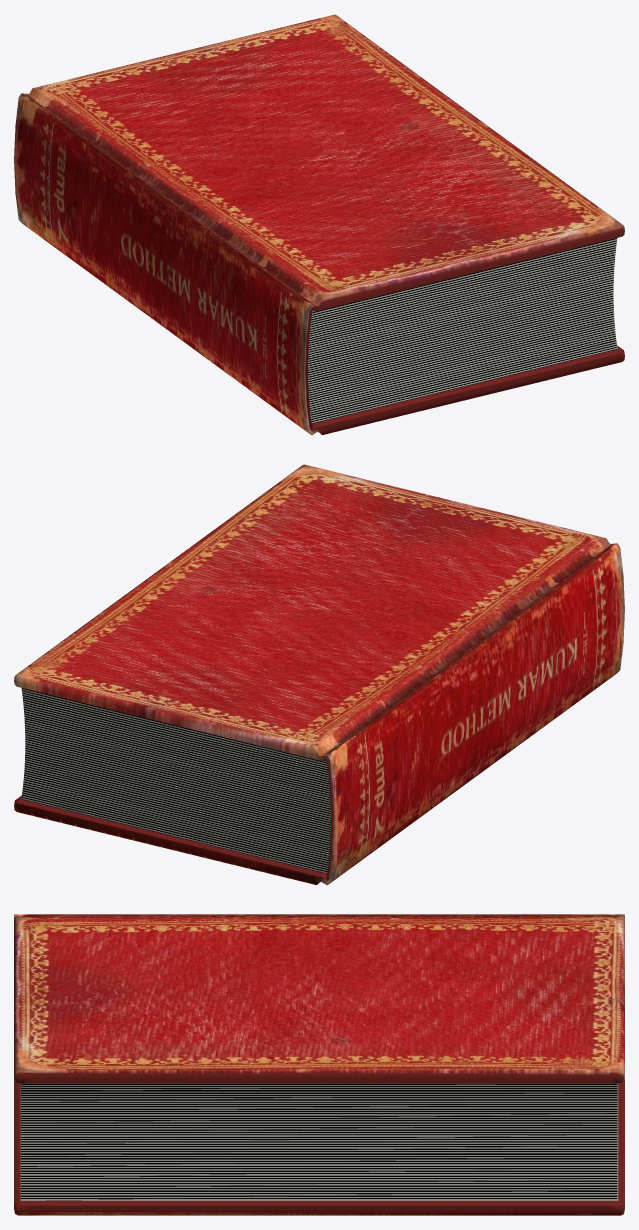
File: book.glb
The picture shows the model from 3 angles, top to bottom: view 1: azimuth 30°, elevation 25°; view 2: azimuth 150°, elevation 25°; view 3: azimuth 270°, elevation 25°; orthographic projection. The views are drawn at different scales.
Parts seen in each view (by area): view 1: Cover.001, Paper; view 2: Cover.001, Paper; view 3: Cover.001, Paper.
Part boxes in pixels (x1,y1,x2,y2): Cover.001: [14, 14, 624, 435]; Paper: [308, 238, 617, 423]; Cover.001: [14, 464, 624, 885]; Paper: [21, 688, 330, 873]; Cover.001: [14, 914, 624, 1215]; Paper: [20, 1083, 618, 1200].
Bounding box in the file's own units: 0.1518 × 0.0622 × 0.237.
Materials: 3 (3 with a texture image).
